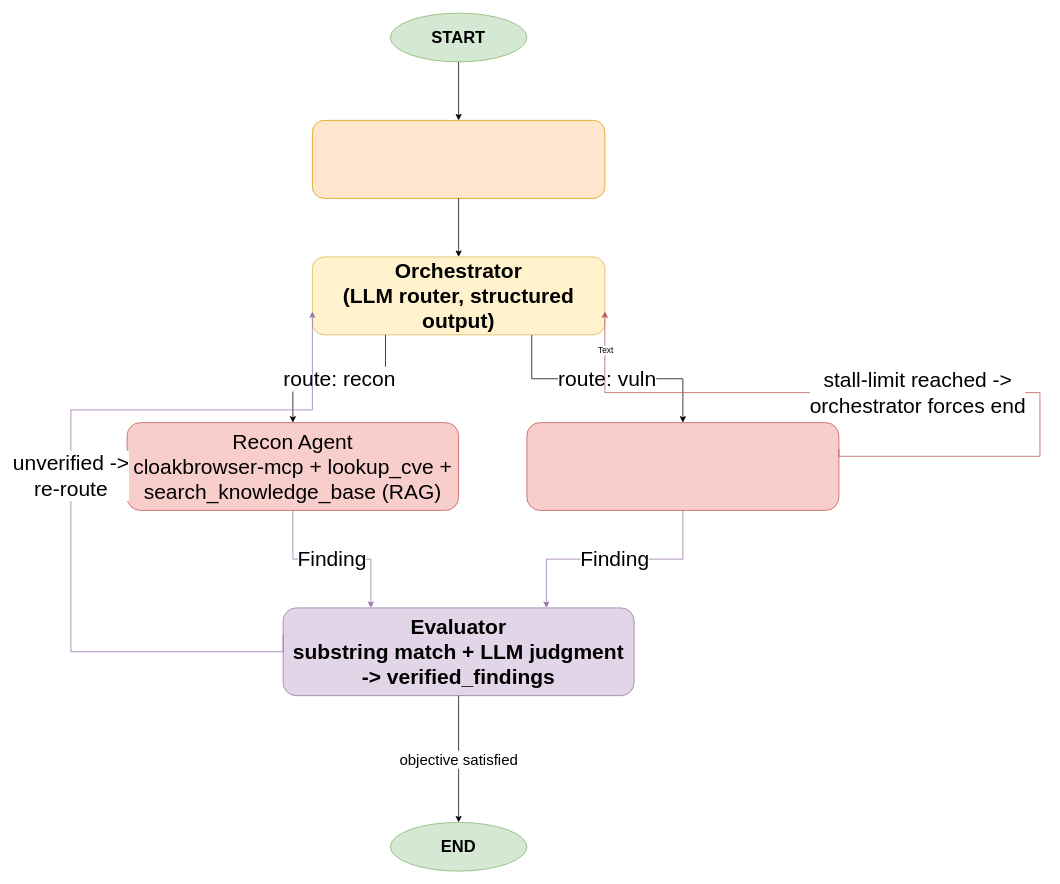
Image size: 1060x884. Some labels were removed from this diagram. The centre of each missing label's shape, as x and y in pixels:
Safety / Guardrail (deterministic scope check): the point at 458,159
Vulnerability Analysis Agent parse_cvss_vector + lookup_attack_technique: the point at 682,466
